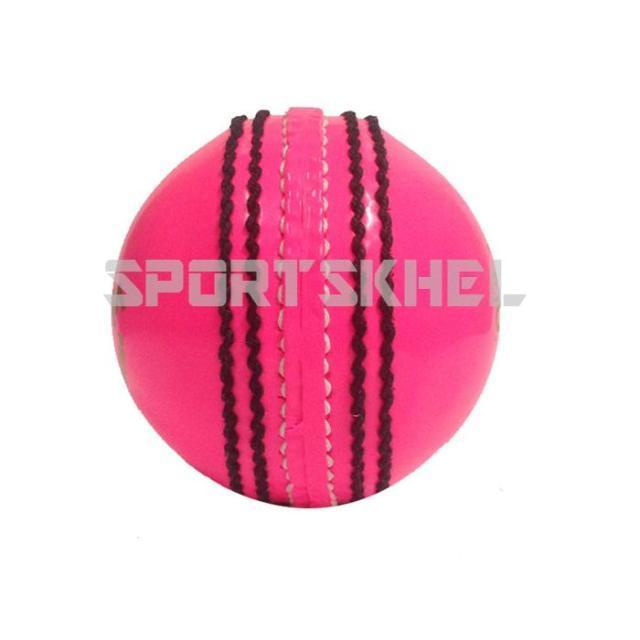cricket ball: (111, 106, 500, 510)
